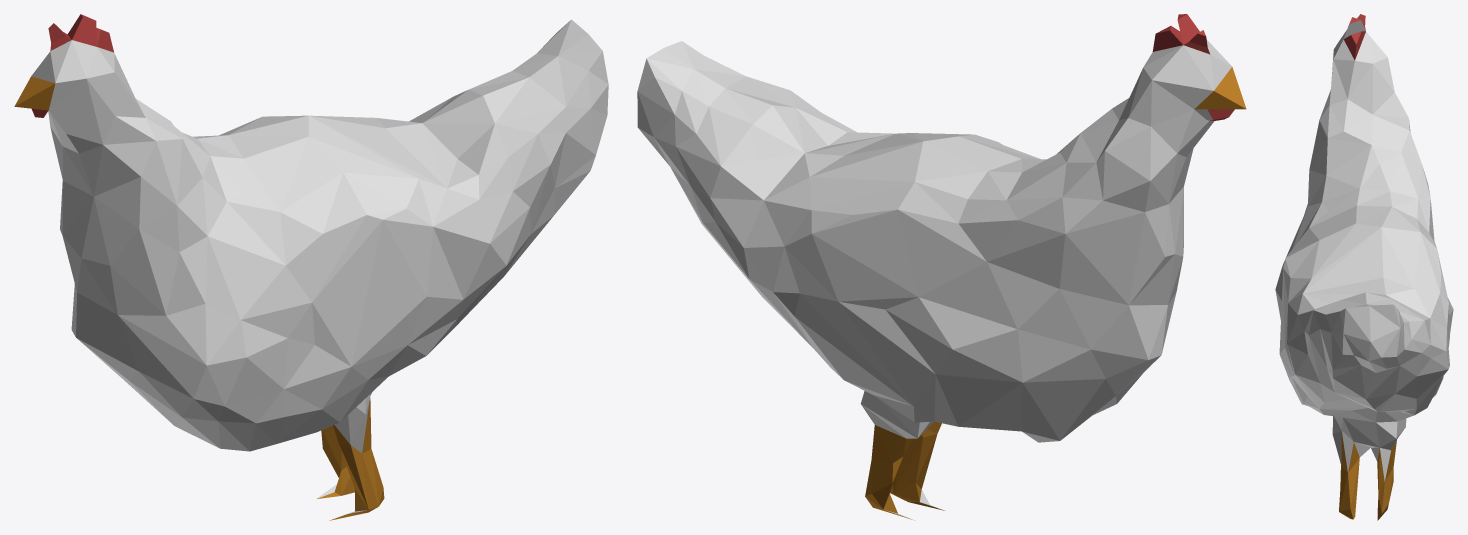
The model's file is poulecursed.fbx.
3 views of the same model, side by side, from view 1: azimuth 30°, elevation 25°; view 2: azimuth 150°, elevation 25°; view 3: azimuth 270°, elevation 25° (orthographic). The views are drawn at different scales.
Visible parts, largest first — view 1: Cube; view 2: Cube; view 3: Cube.
Part boxes in pixels (left/top/right/bottom): Cube: left=14, top=14, right=608, bottom=520; Cube: left=637, top=14, right=1246, bottom=520; Cube: left=1275, top=14, right=1453, bottom=520.
Bounding box in the file's own units: 122 × 110 × 43.99.
